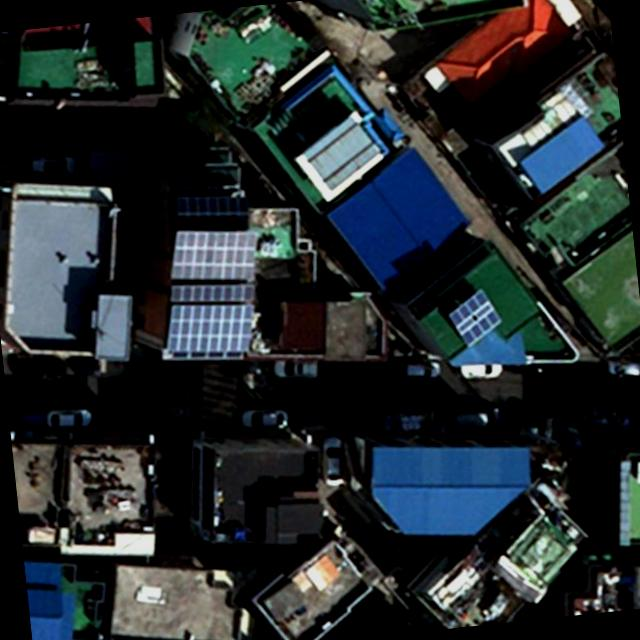solar: (164, 219, 264, 291), (162, 296, 260, 360), (165, 272, 263, 313), (444, 286, 508, 348), (172, 186, 255, 227)
